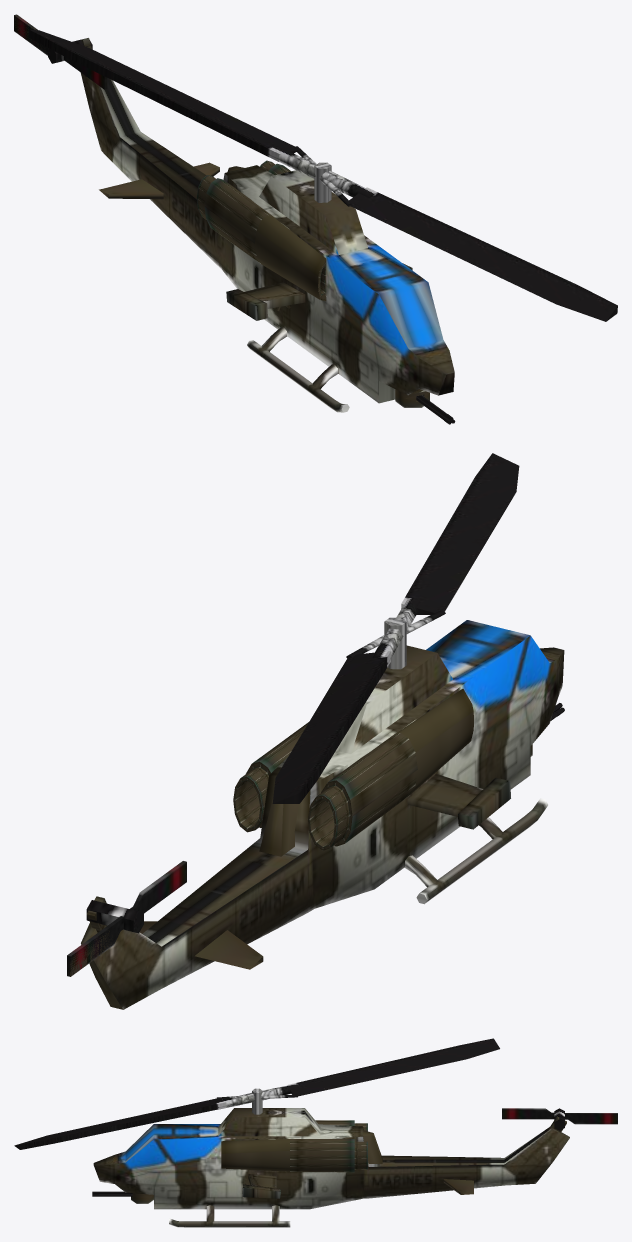
The model's file is AH1W_Cobra_Attack_Helicopter.fbx.
3 views of the same model, one above another, from view 1: azimuth 30°, elevation 25°; view 2: azimuth 150°, elevation 25°; view 3: azimuth 270°, elevation 25° (orthographic). The views are drawn at different scales.
Visible parts, largest first — view 1: Heli_Cobra:AH_1W_Cobra; view 2: Heli_Cobra:AH_1W_Cobra; view 3: Heli_Cobra:AH_1W_Cobra.
Boxes of the visible parts, bbox=[...] form: Heli_Cobra:AH_1W_Cobra: bbox=[14, 14, 617, 424]; Heli_Cobra:AH_1W_Cobra: bbox=[67, 453, 564, 1009]; Heli_Cobra:AH_1W_Cobra: bbox=[14, 1038, 617, 1227].
Bounding box in the file's own units: 162 × 153 × 600.
Materials: 1 (1 with a texture image).
